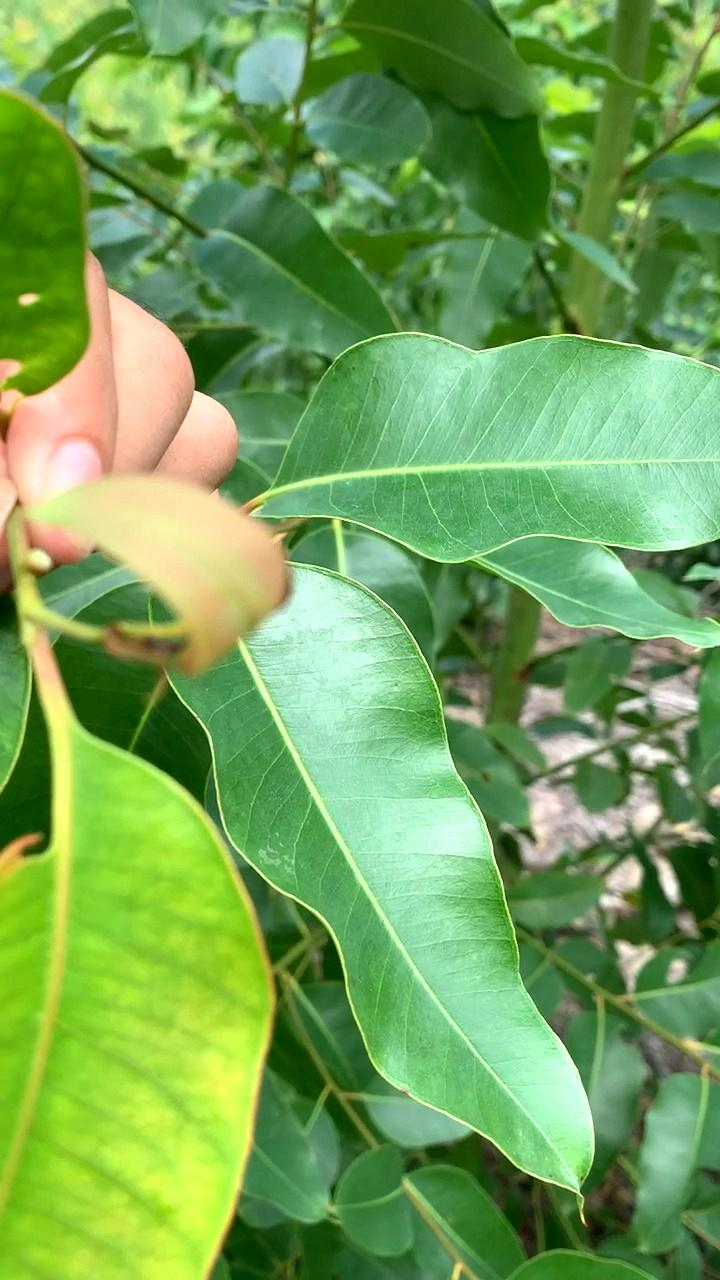Helopeltis-Withered Sprout: (35, 466, 299, 677)
